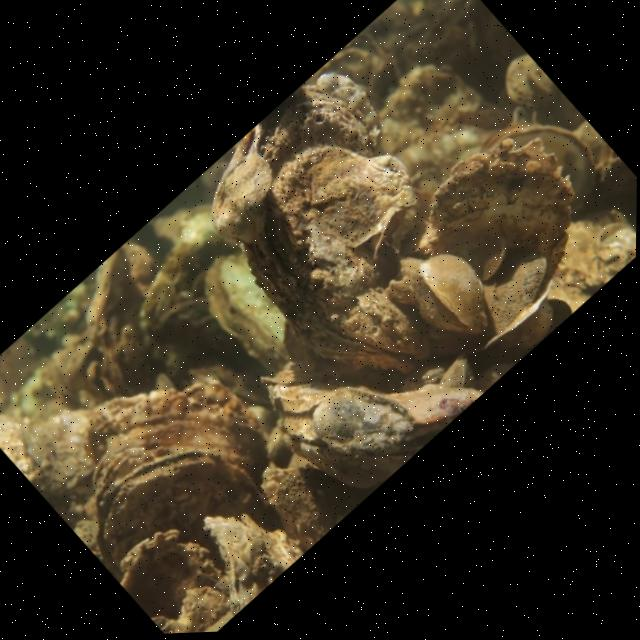Oyster-Closed: (209, 71, 433, 379), (95, 448, 287, 585), (426, 136, 578, 279), (201, 254, 326, 375), (278, 413, 428, 495), (119, 528, 226, 633), (200, 512, 305, 616), (259, 461, 366, 550), (259, 356, 405, 416), (399, 252, 489, 337), (473, 238, 511, 285), (439, 352, 478, 390)
Oyster-Indeterminate: (82, 382, 271, 510), (308, 388, 420, 453)
Oyster-Open: (463, 257, 559, 358)
